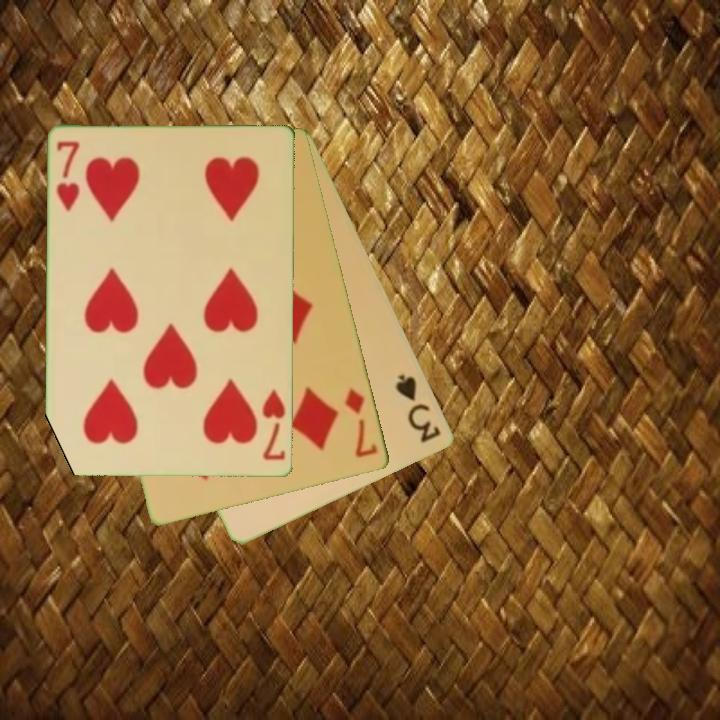3s: (392, 371, 444, 446)
7d: (342, 384, 381, 461)
7h: (259, 386, 289, 464), (53, 138, 83, 214)
